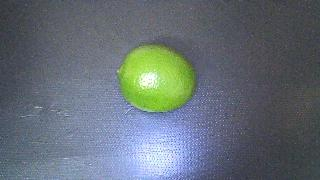EXPORTACION: (118, 45, 196, 112)
